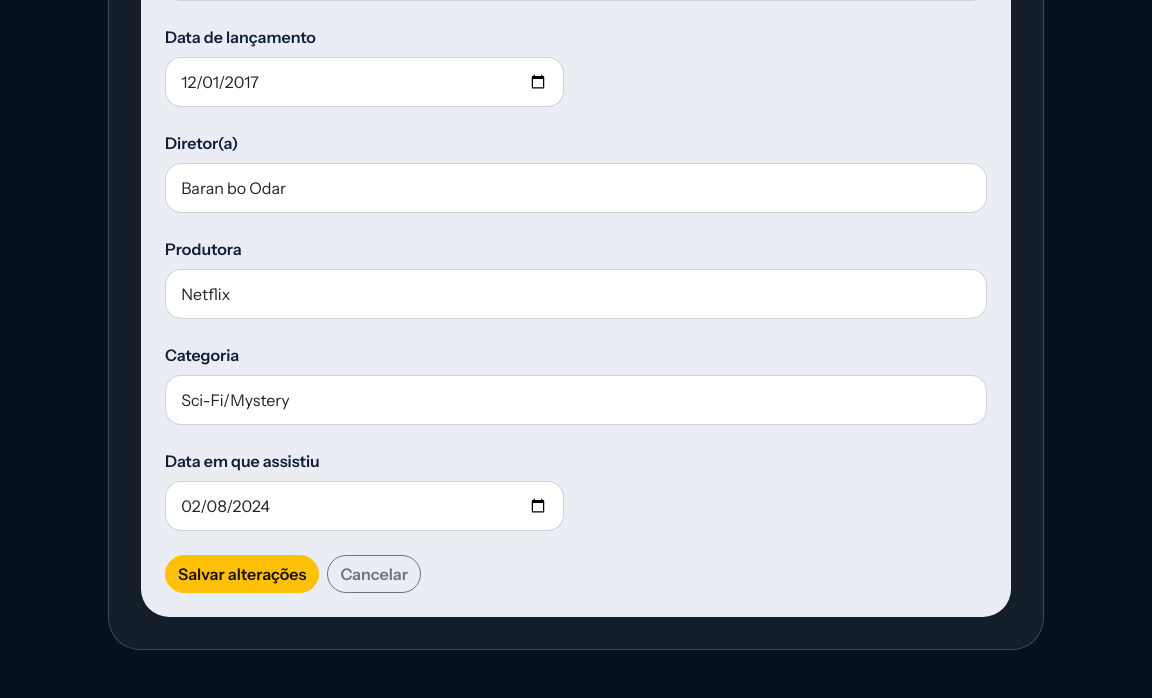
Test: carrega uma série existente e envia a atualização
This screenshot has width=1152, height=698.
(page scrolled)
Replace the text in the field labelled "Categoria" with "Sci-Fi": (576, 400) [165,375,987,425]
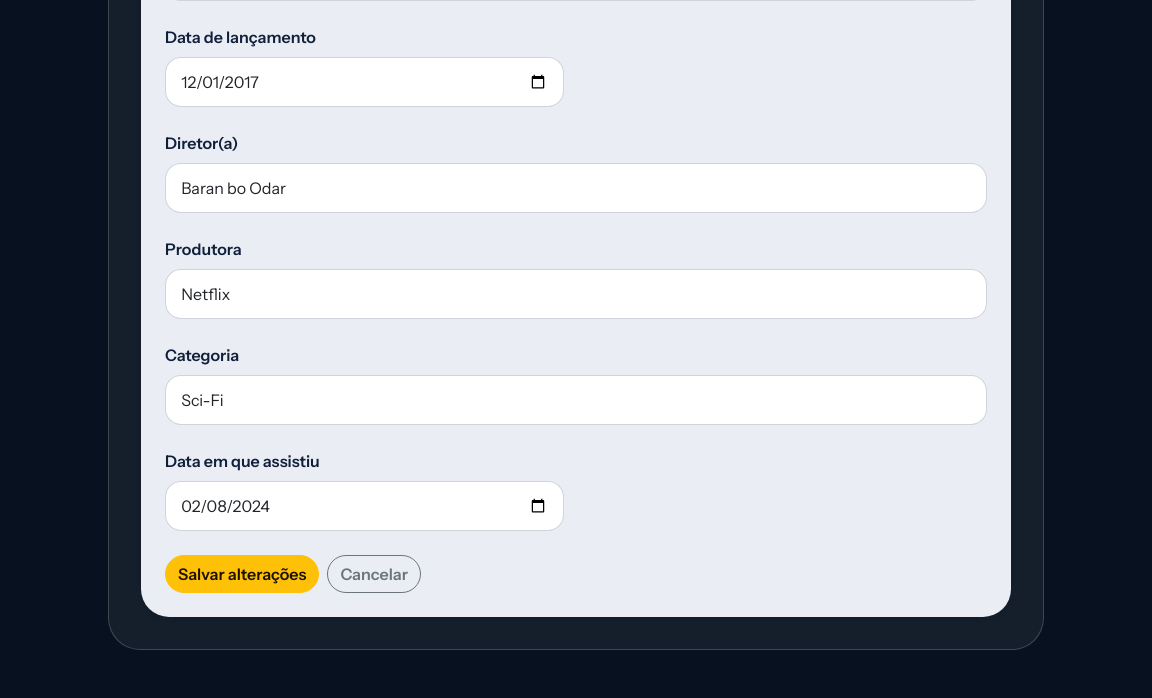
Click the button "Salvar alterações": (242, 574) [165,555,319,593]
(page scrolled)
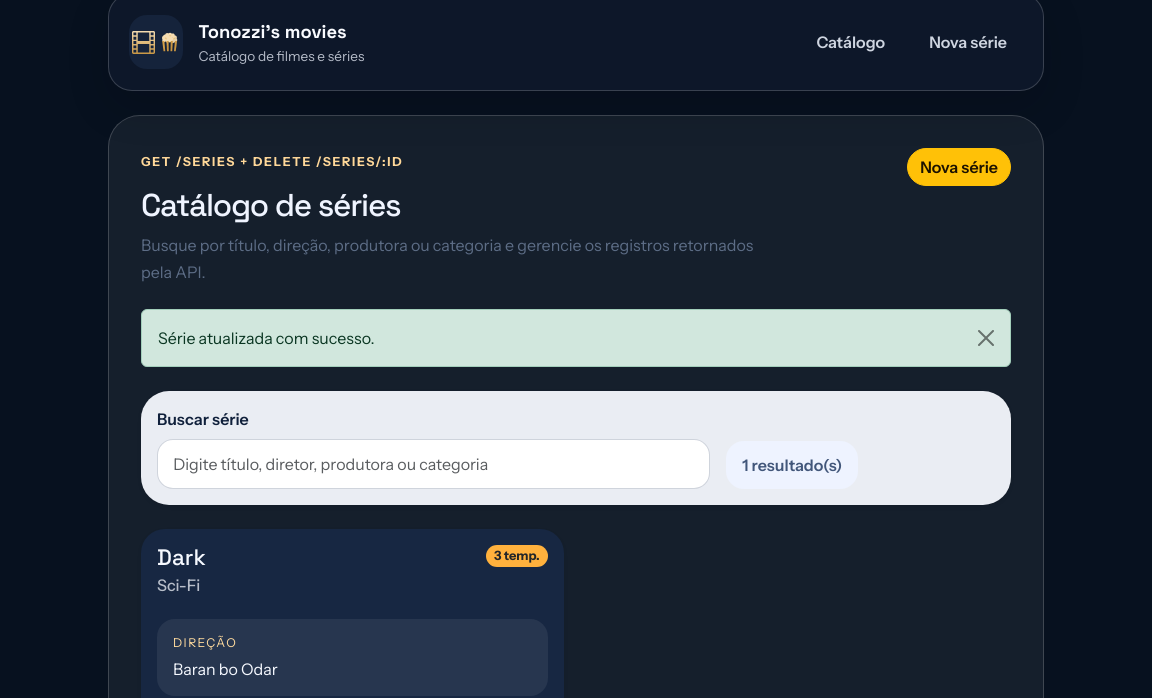
Result: the text "Série atualizada com sucesso." is shown at [141,309,1011,367]
